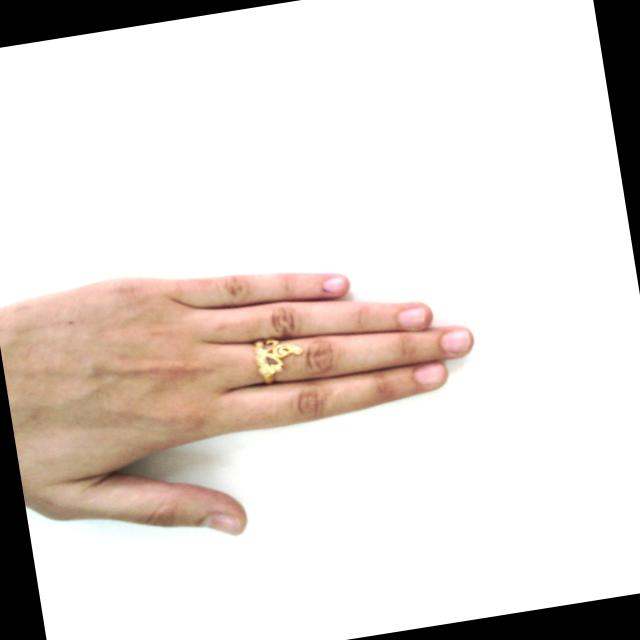Nail: (199, 512, 243, 535), (412, 361, 445, 385), (439, 328, 472, 352), (396, 304, 426, 328), (322, 273, 347, 292)
